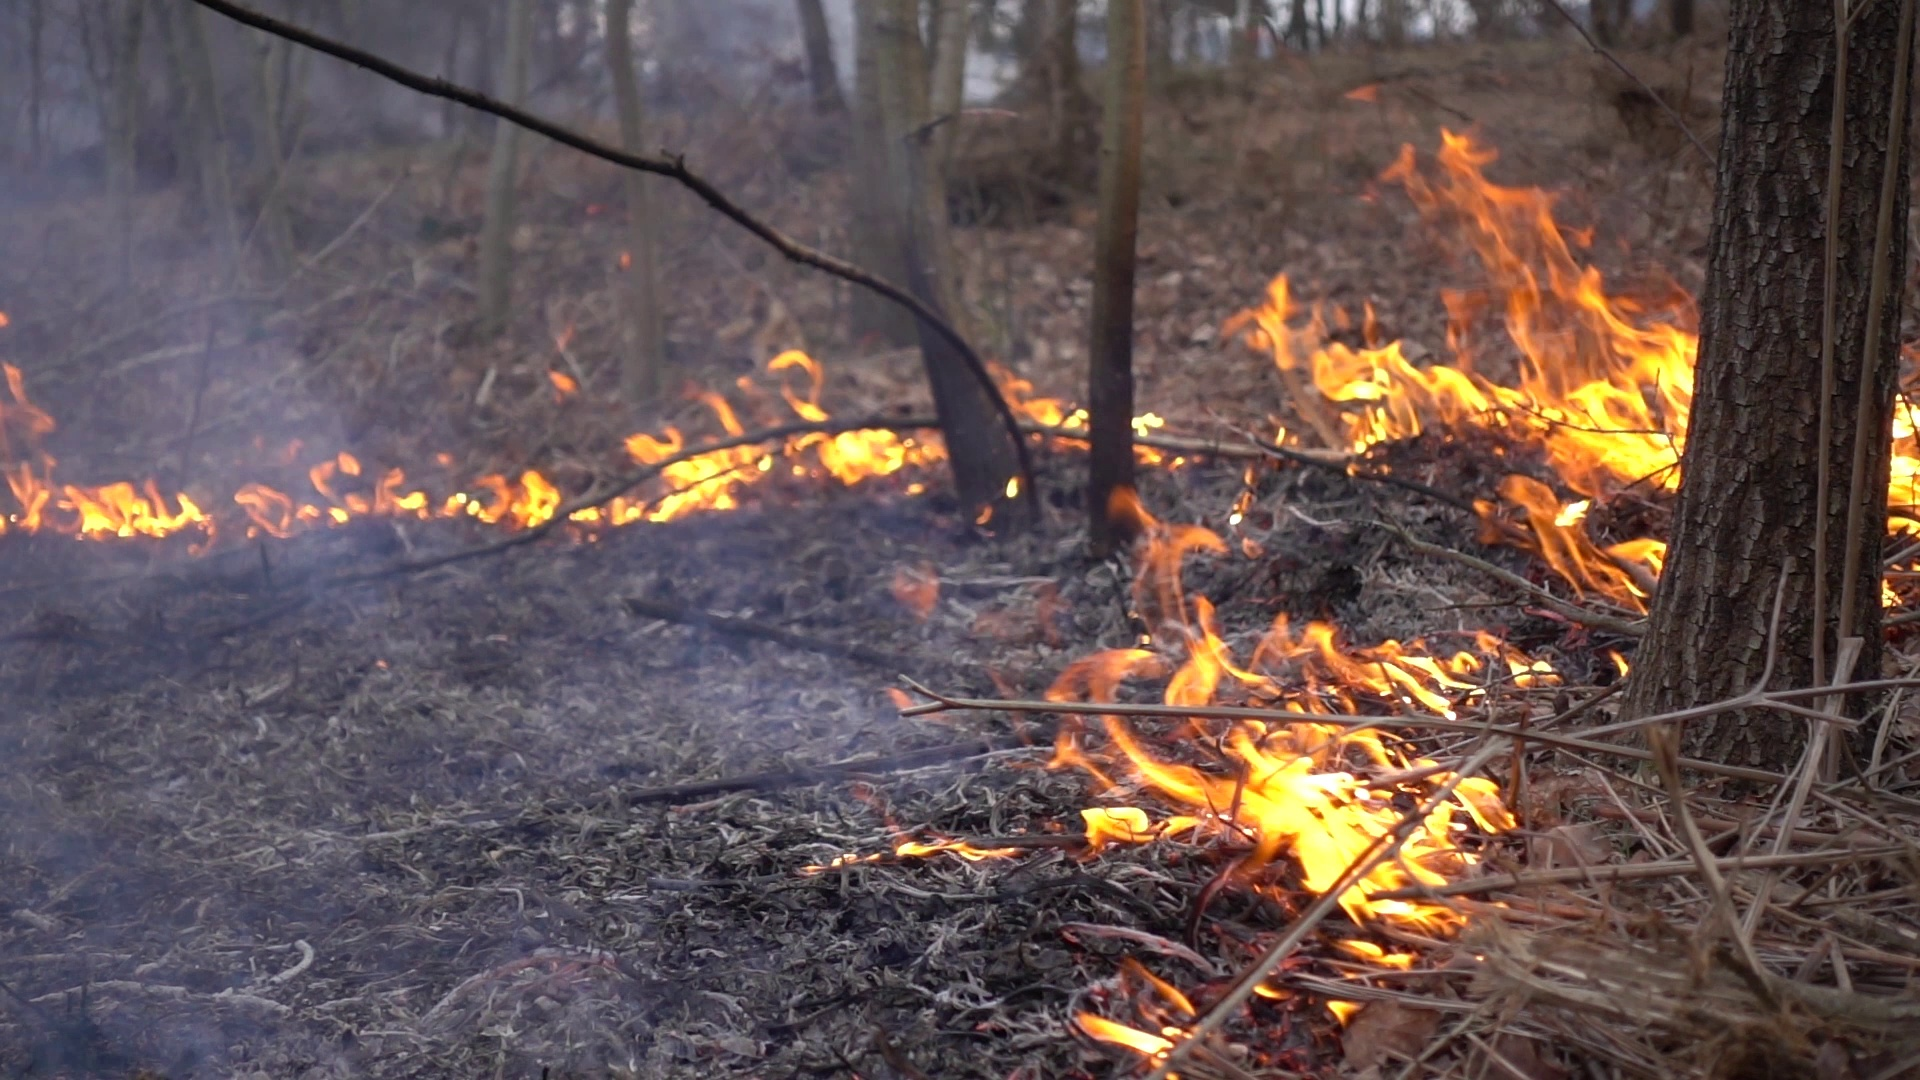fire: (1244, 145, 1705, 498), (1060, 609, 1491, 919), (616, 355, 920, 527), (235, 456, 417, 535), (7, 471, 198, 539), (475, 477, 555, 520), (1892, 401, 1920, 522)
